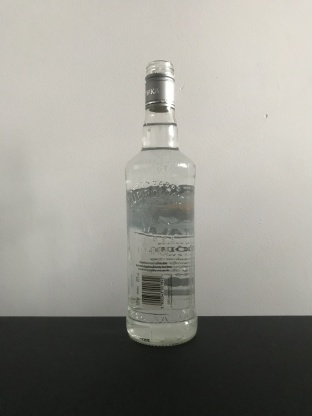nakretka: (143, 58, 176, 114)
